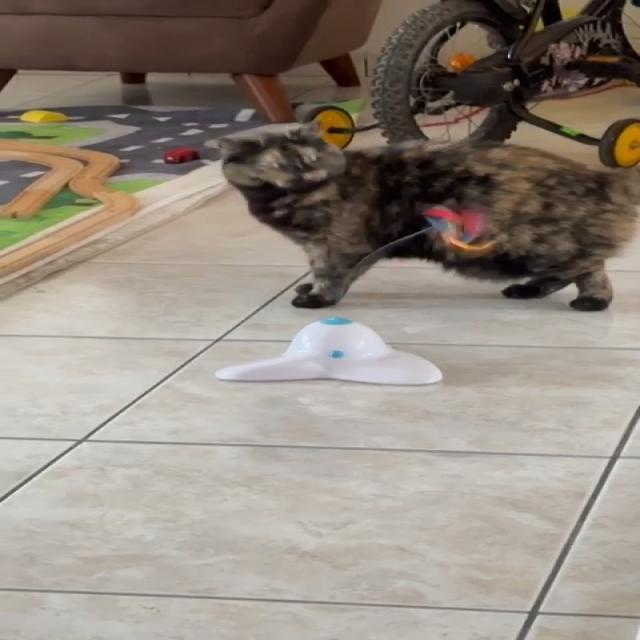authorized: (209, 120, 639, 312)
